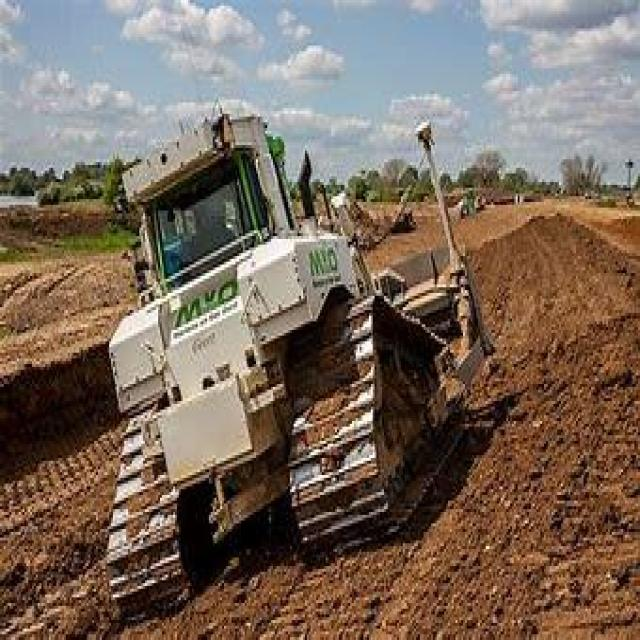buldozerpayloadergrader: (79, 68, 510, 618)
